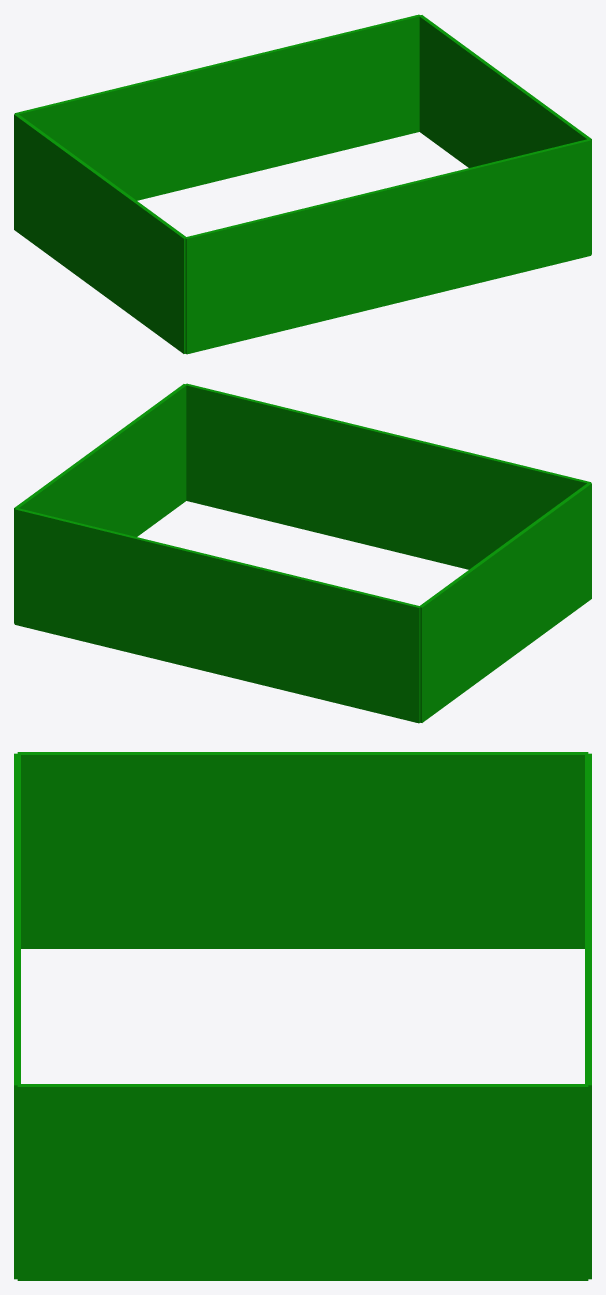
File: only_room.dae
3 views of the same model, one above another, from view 1: azimuth 30°, elevation 25°; view 2: azimuth 150°, elevation 25°; view 3: azimuth 270°, elevation 25° (orthographic). The views are drawn at different scales.
Parts seen in each view (by area): view 1: Cube_002, Cube_004, Cube_003, Cube_001; view 2: Cube_004, Cube_002, Cube_003, Cube_001; view 3: Cube_001, Cube_003, Cube_004, Cube_002.
Boxes of the visible parts, bbox=[...] form: Cube_002: bbox=[185, 139, 591, 354]; Cube_004: bbox=[14, 14, 420, 200]; Cube_003: bbox=[14, 114, 187, 353]; Cube_001: bbox=[419, 15, 591, 254]; Cube_004: bbox=[14, 508, 420, 723]; Cube_002: bbox=[185, 383, 591, 569]; Cube_003: bbox=[420, 483, 591, 722]; Cube_001: bbox=[14, 384, 186, 623]; Cube_001: bbox=[17, 1084, 588, 1280]; Cube_003: bbox=[17, 752, 588, 948]; Cube_004: bbox=[585, 753, 591, 1279]; Cube_002: bbox=[14, 753, 20, 1279].
Bounding box in the file's own units: 11.1 × 8.1 × 3.
